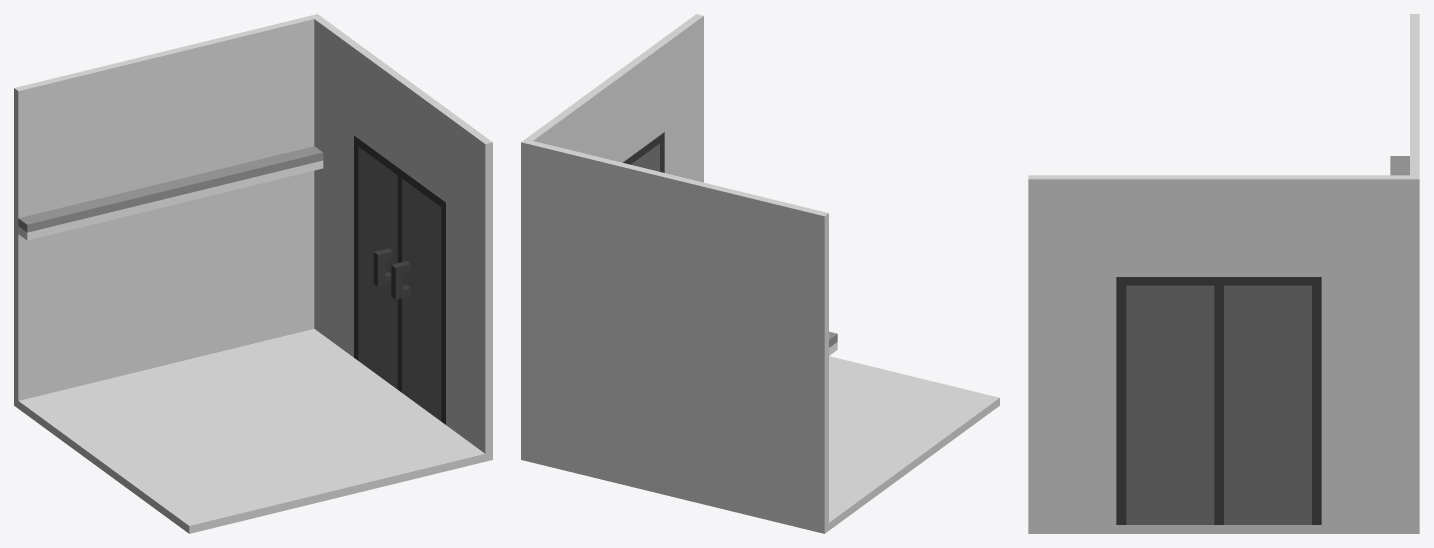
The model's file is Wall_Corner_with_duble_door(Ver_1).obj.
3 renders of one model, left to right at view 1: azimuth 30°, elevation 25°; view 2: azimuth 150°, elevation 25°; view 3: azimuth 270°, elevation 25°, orthographic. The views are drawn at different scales.
Bounding box in the file's own units: 4 × 4 × 4.
Materials: 1 (1 with a texture image).
